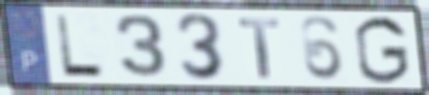3: (112, 13, 170, 81), (175, 12, 229, 84)
6: (299, 14, 345, 85)
G: (351, 14, 412, 86)
L: (53, 12, 108, 79)
T: (235, 17, 282, 81)
